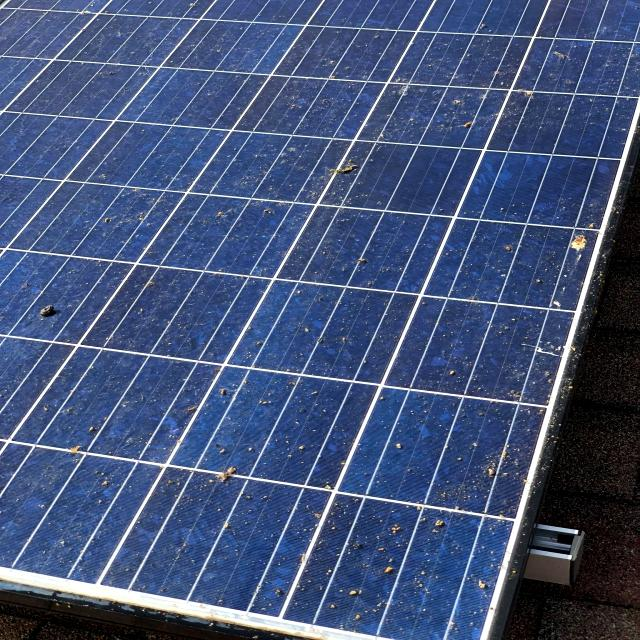bird: (286, 132, 398, 206), (534, 213, 622, 288), (0, 296, 88, 354), (187, 443, 261, 508)
